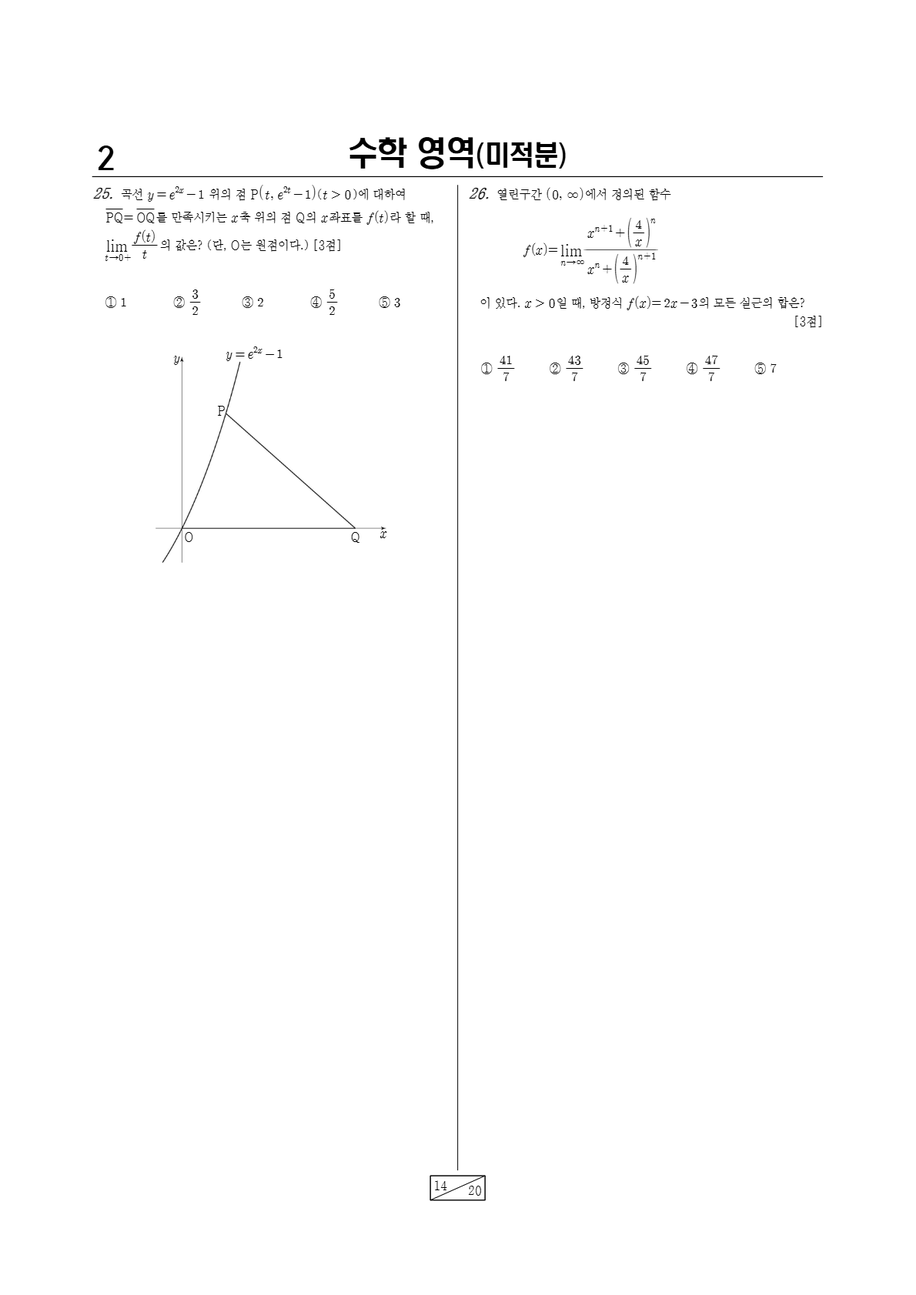opt_1: (103, 293, 116, 309), (480, 362, 493, 376)
opt_2: (172, 294, 185, 308), (549, 361, 560, 375)
opt_3: (617, 361, 629, 375), (242, 294, 253, 309)
opt_4: (309, 295, 322, 309), (686, 362, 697, 375)
opt_5: (754, 361, 767, 376), (379, 294, 390, 309)
